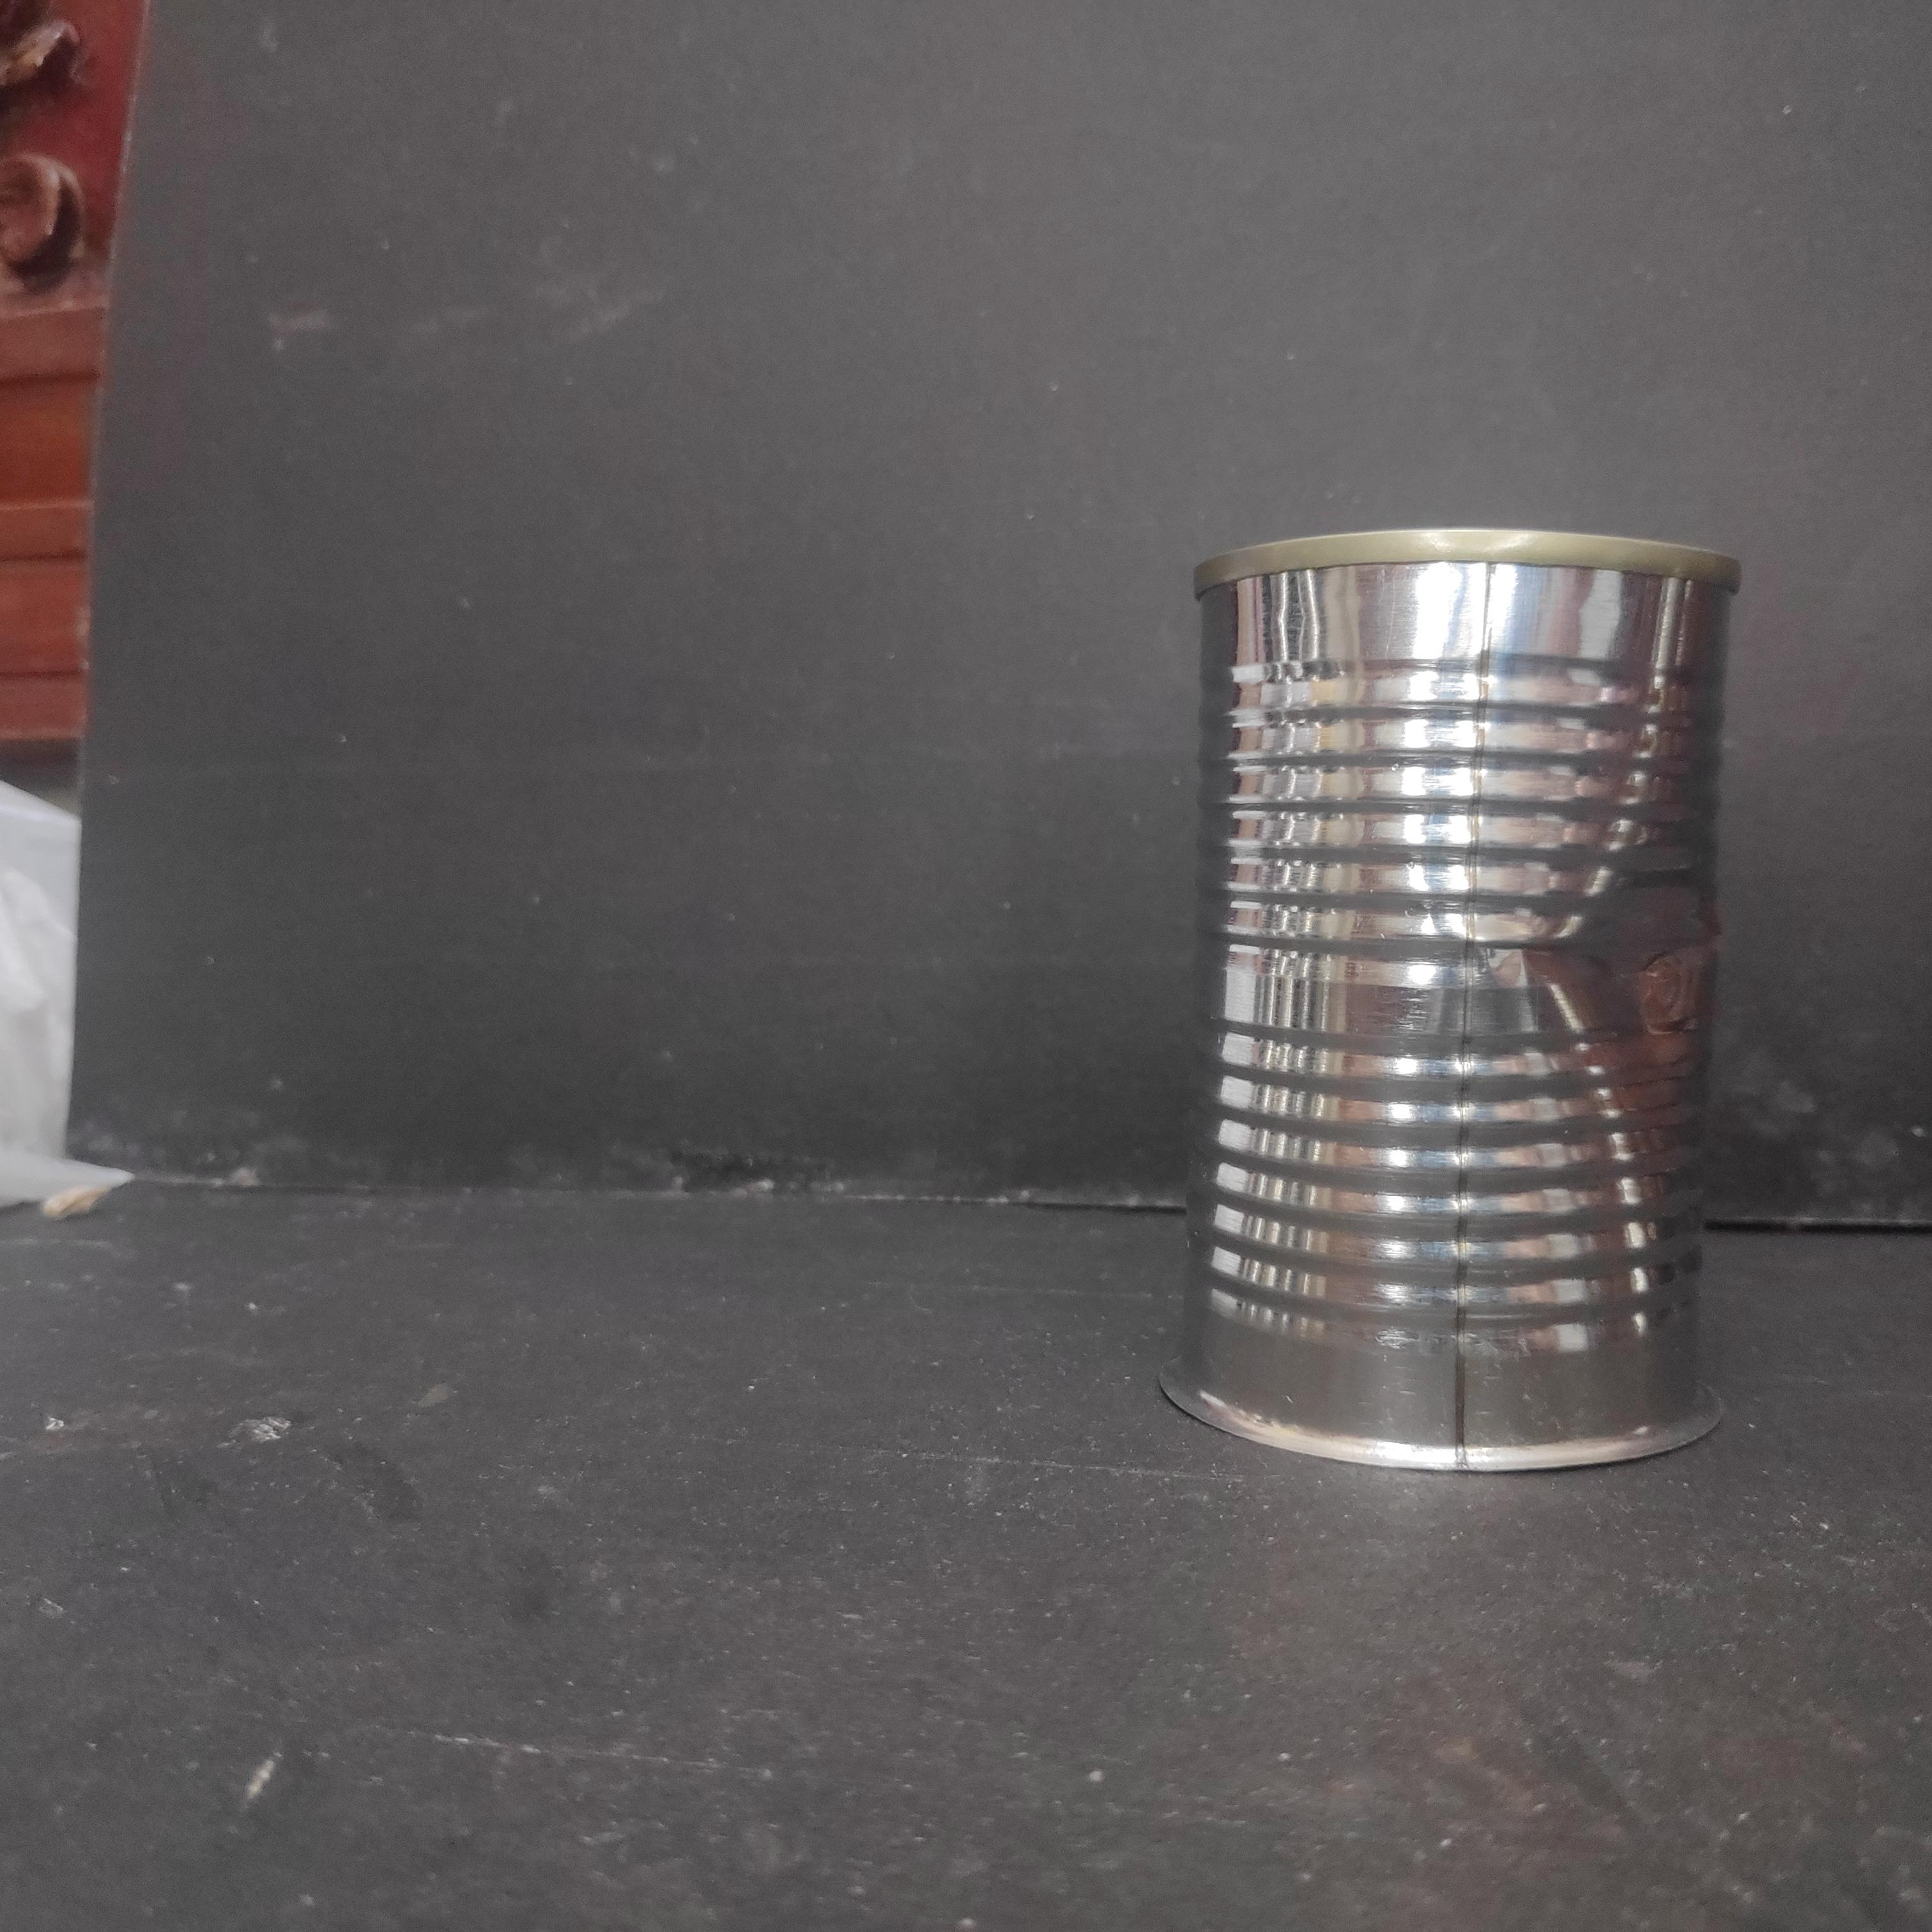Minor Defect: (1177, 515, 1750, 1483)
